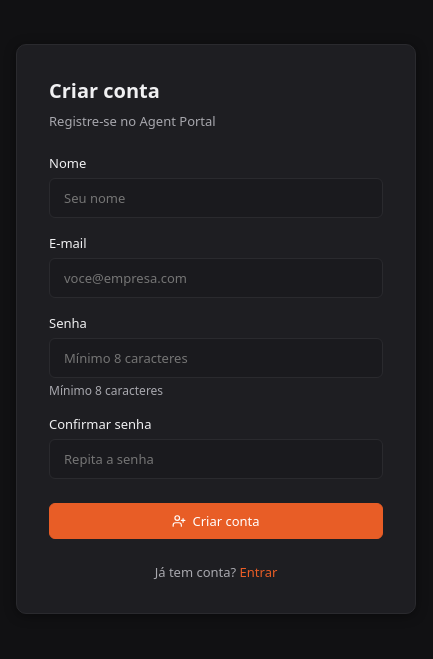
Test case: RegisterPage › shows API error on registration failure
The width and height of the screenshot is (433, 659).
Type "Test" into the field labelled "Nome" at (216, 198), box x1=49 y1=178 x2=383 y2=218
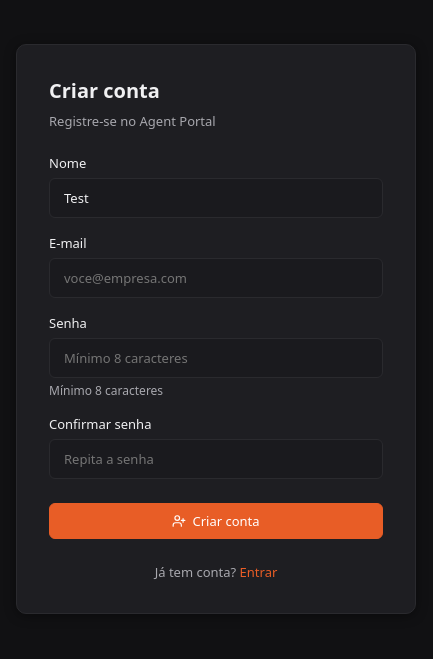
Type "test@test.com" into the field labelled "E-mail" at (216, 278), box x1=49 y1=258 x2=383 y2=298
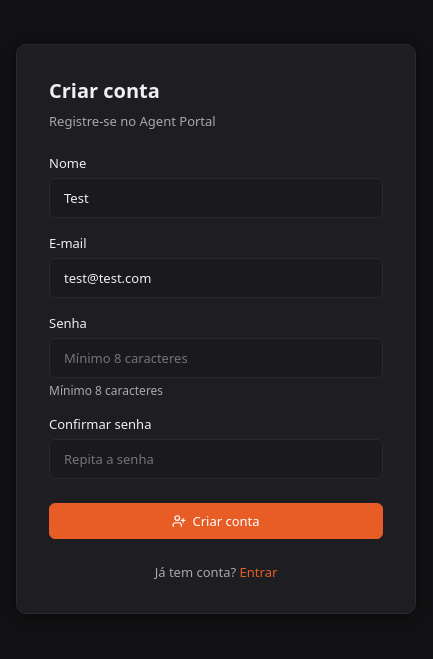
Type "password123" into the password field labelled "Senha" at (216, 358), box x1=49 y1=338 x2=383 y2=378
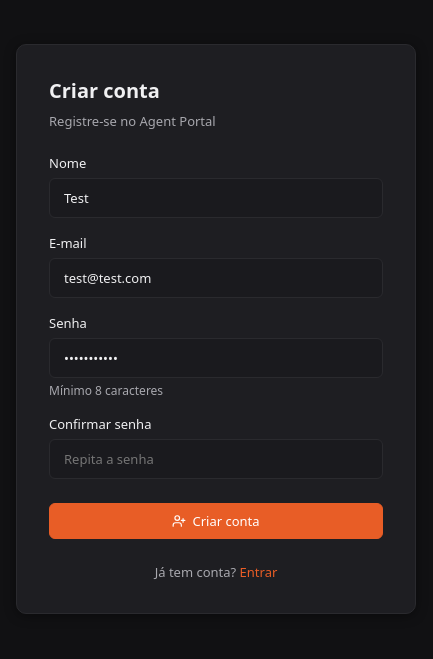
Type "password123" into the password field labelled "Confirmar senha" at (216, 459), box x1=49 y1=439 x2=383 y2=479
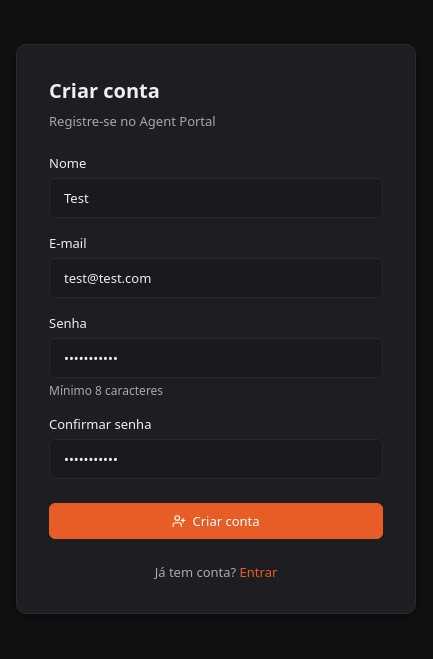
Click the button "Criar conta" at (216, 521), box x1=49 y1=503 x2=383 y2=539
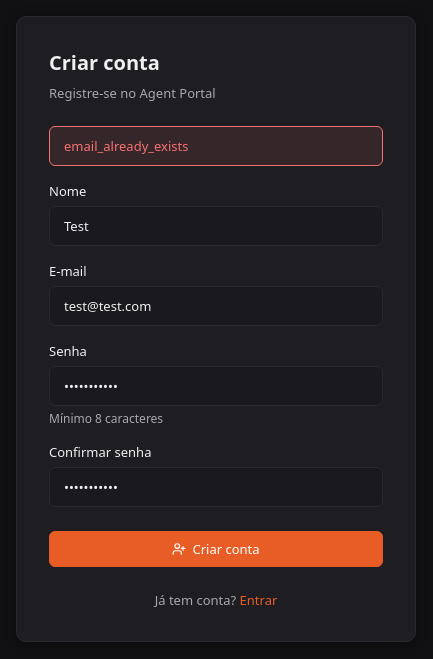
Result: the message reads "email_already_exists" at x1=64 y1=137 x2=188 y2=155
